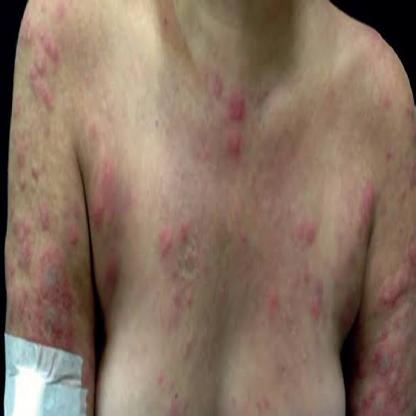Hansen-s Disease-Leprosy- severe: (7, 196, 81, 346), (365, 265, 416, 414), (25, 19, 62, 110)
